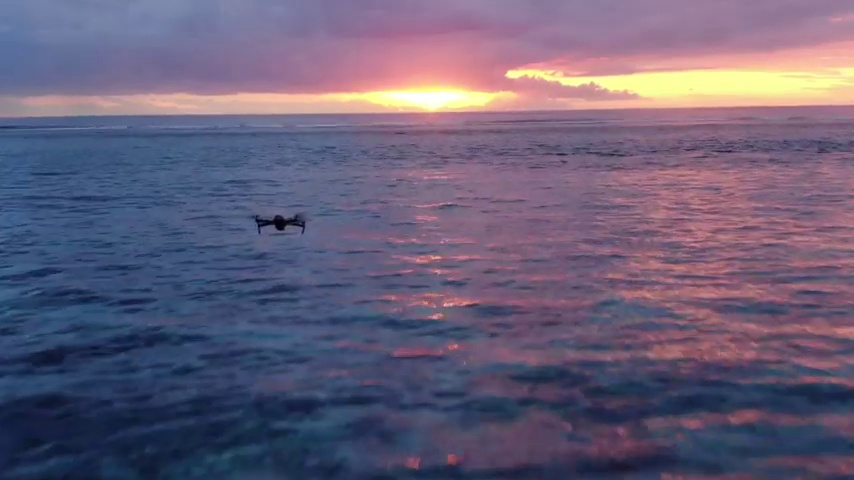drone: (252, 209, 305, 235)
